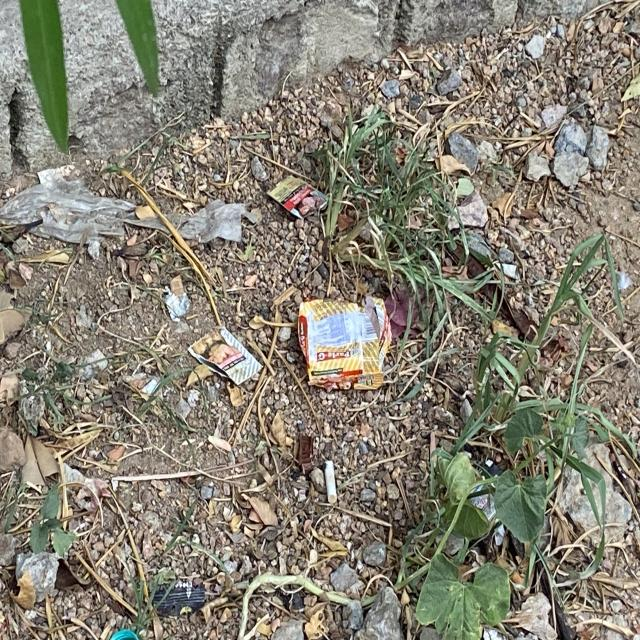giay: (188, 327, 261, 385), (268, 174, 327, 218)
giay_goi: (298, 297, 391, 390)
nhua: (0, 175, 165, 242), (170, 200, 246, 241)
